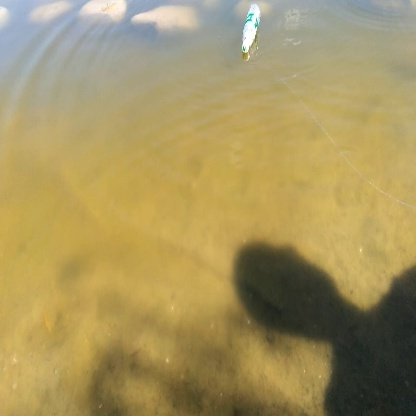bottle: (237, 2, 264, 60)
